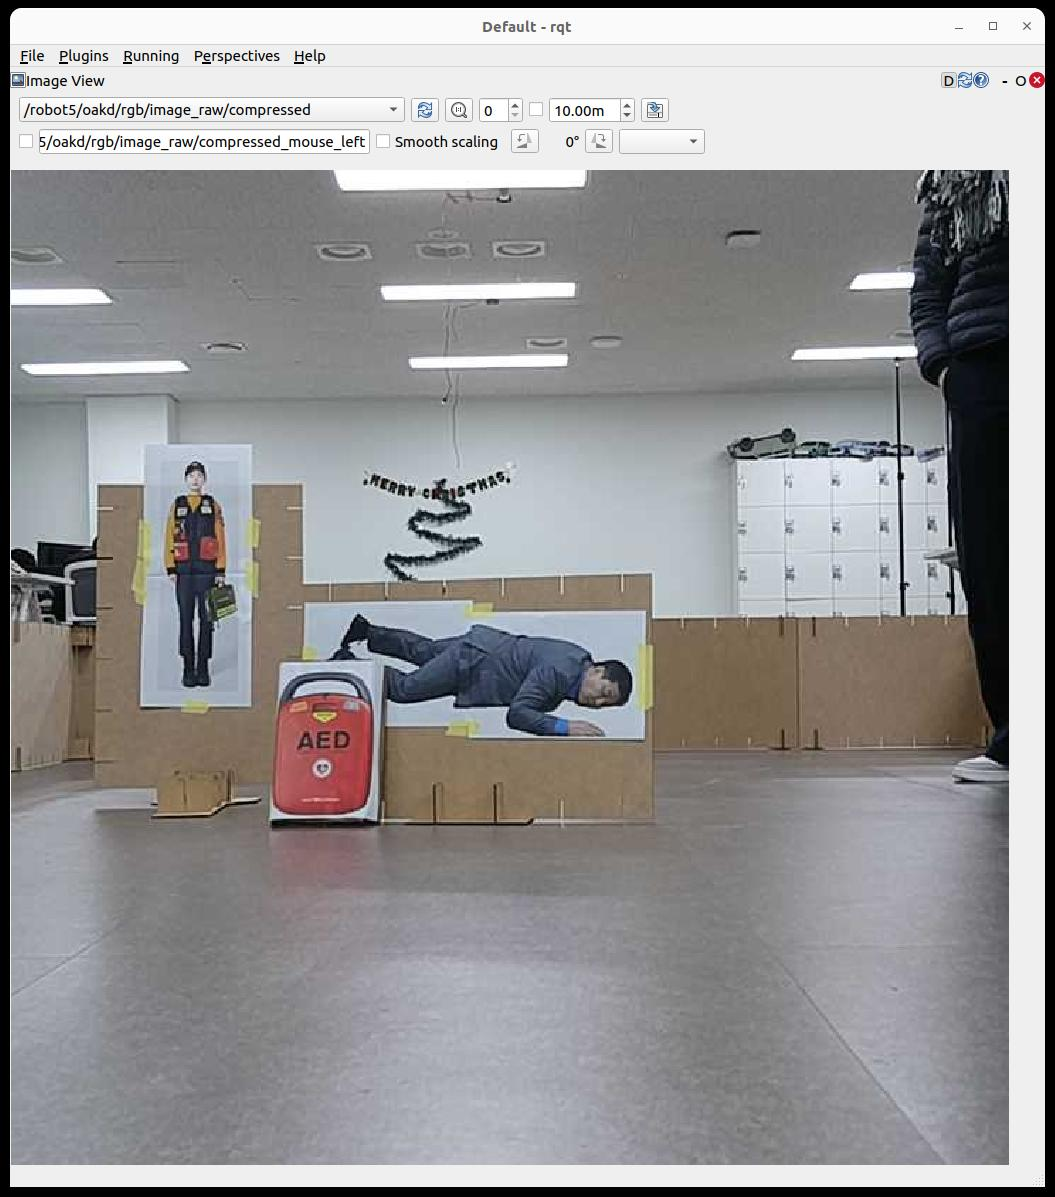AED: (271, 661, 382, 822)
Patient: (338, 613, 632, 737)
Responder: (162, 462, 225, 687)
